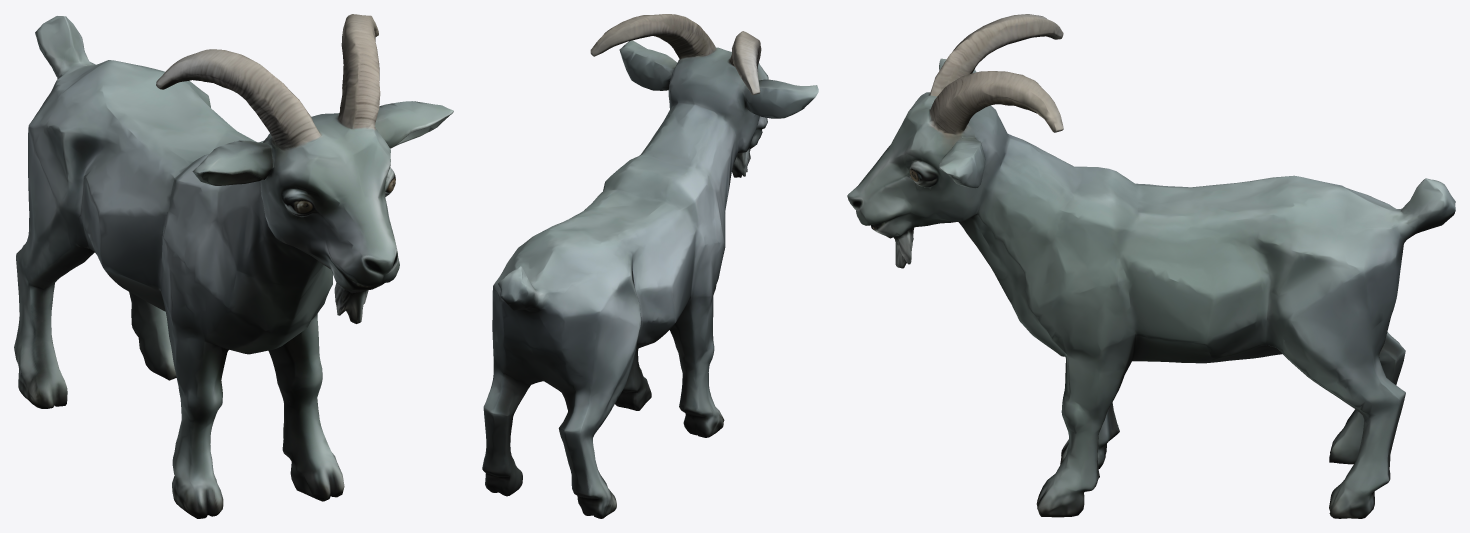
File: goat.glb
3 renders of one model, left to right at view 1: azimuth 30°, elevation 25°; view 2: azimuth 150°, elevation 25°; view 3: azimuth 270°, elevation 25°, orthographic. The views are drawn at different scales.
Parts seen in each view (by area): view 1: tripo_node_2706eed3-d28b-4e3a-82ab-1e3e866c147e; view 2: tripo_node_2706eed3-d28b-4e3a-82ab-1e3e866c147e; view 3: tripo_node_2706eed3-d28b-4e3a-82ab-1e3e866c147e.
Boxes of the visible parts, left/top/right/bottom form: tripo_node_2706eed3-d28b-4e3a-82ab-1e3e866c147e: left=14, top=14, right=453, bottom=518; tripo_node_2706eed3-d28b-4e3a-82ab-1e3e866c147e: left=482, top=14, right=818, bottom=518; tripo_node_2706eed3-d28b-4e3a-82ab-1e3e866c147e: left=847, top=14, right=1455, bottom=518.
Bounding box in the file's own units: 0.4429 × 0.805 × 1.
1 material, 1 textured.
